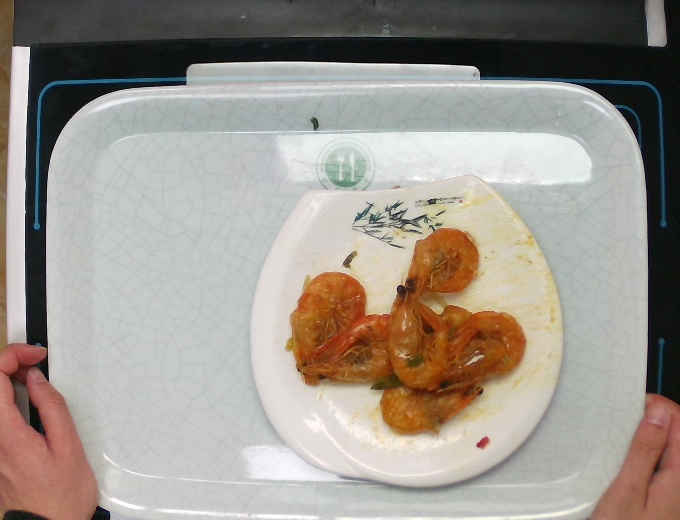JYsf-Mian_Pan: (240, 171, 566, 492)
